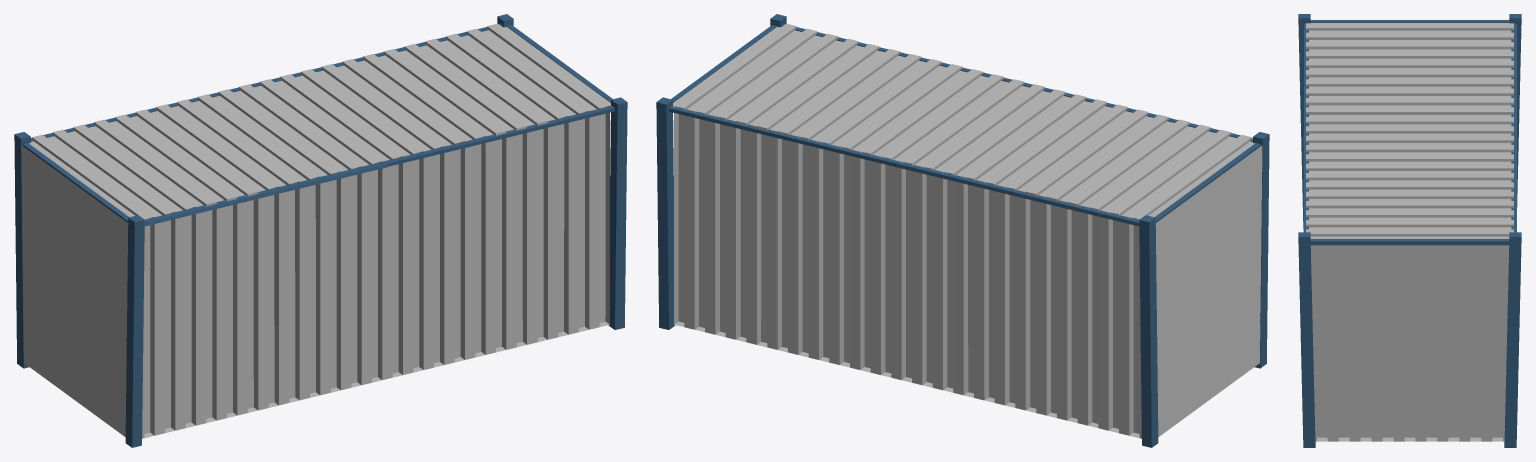
Rendered from edap-container-20ft-var_LOD01.gltf.
3 renders of one model, left to right at view 1: azimuth 30°, elevation 25°; view 2: azimuth 150°, elevation 25°; view 3: azimuth 270°, elevation 25°, orthographic. The views are drawn at different scales.
Visible parts, largest first — view 1: container.001, container door.001, corners.001, long rims.002, short rims.001; view 2: container.001, container door.001, corners.001, long rims.002, short rims.001; view 3: container.001, corners.001, short rims.001, long rims.002.
Part boxes in pixels (bbox=[...]): container.001: bbox=[29, 23, 610, 438]; container door.001: bbox=[21, 145, 128, 436]; corners.001: bbox=[14, 14, 627, 447]; long rims.002: bbox=[31, 23, 614, 226]; short rims.001: bbox=[23, 25, 612, 222]; container.001: bbox=[673, 23, 1254, 438]; container door.001: bbox=[1155, 145, 1262, 436]; corners.001: bbox=[656, 14, 1269, 447]; long rims.002: bbox=[669, 24, 1252, 226]; short rims.001: bbox=[671, 25, 1260, 222]; container.001: bbox=[1306, 23, 1513, 441]; corners.001: bbox=[1298, 14, 1521, 447]; short rims.001: bbox=[1310, 20, 1509, 245]; long rims.002: bbox=[1303, 23, 1516, 232].
Size of the model in its own units: 6.18 by 2.73 by 2.62.
